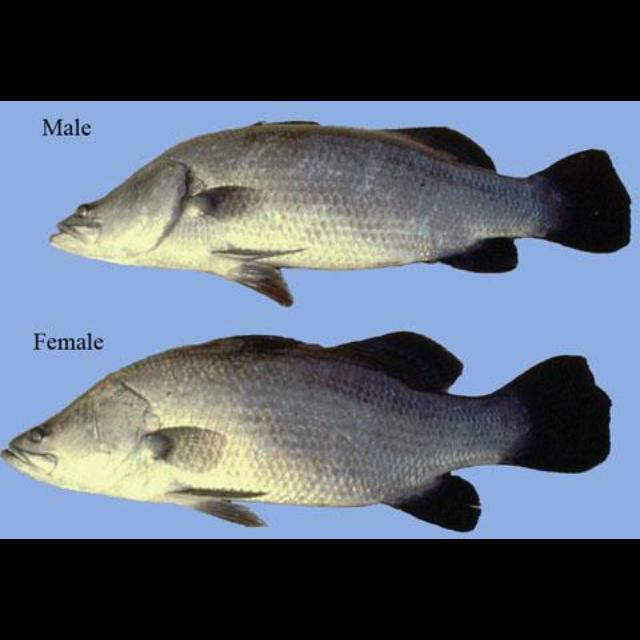Seabass: (0, 331, 614, 534), (50, 123, 632, 310)
